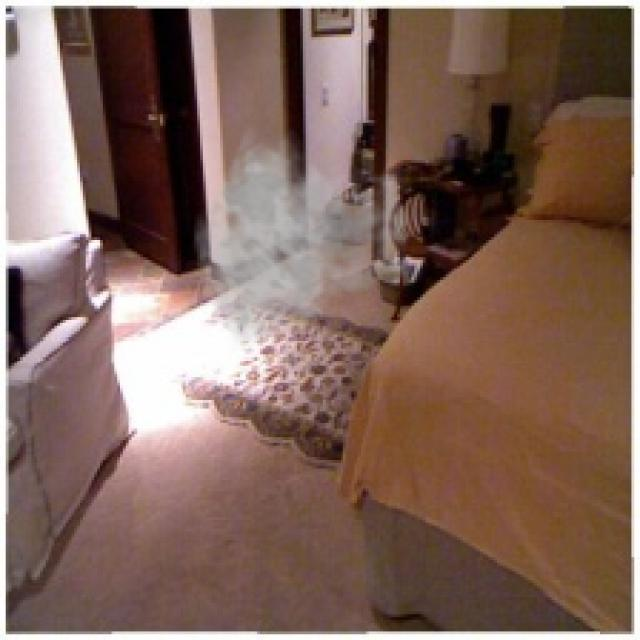Smoke: (191, 122, 426, 352)
